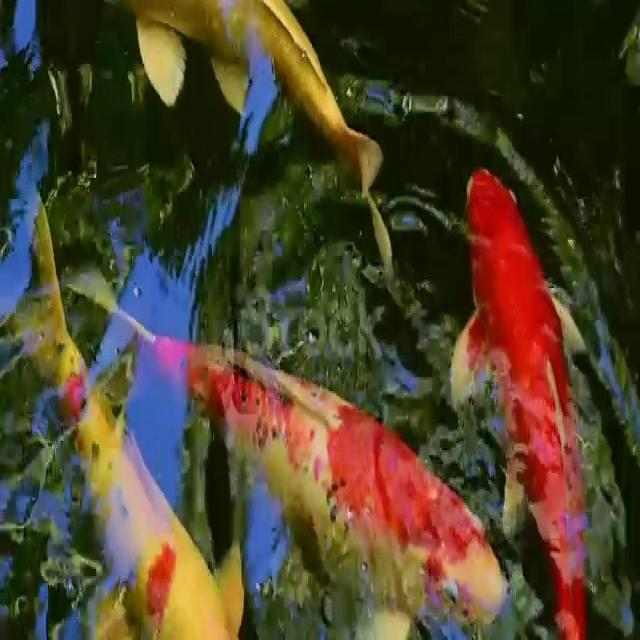fish: (150, 286, 512, 636), (12, 250, 246, 640), (454, 142, 621, 640), (124, 0, 400, 205)
